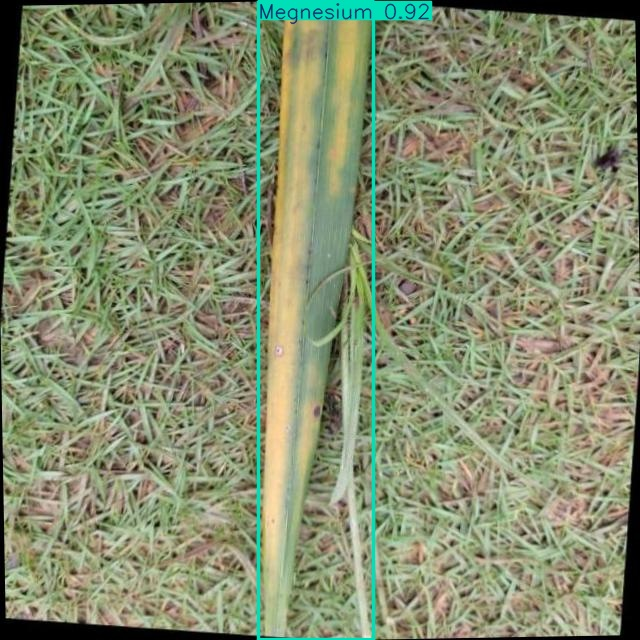Megnesium: (258, 1, 373, 640)
